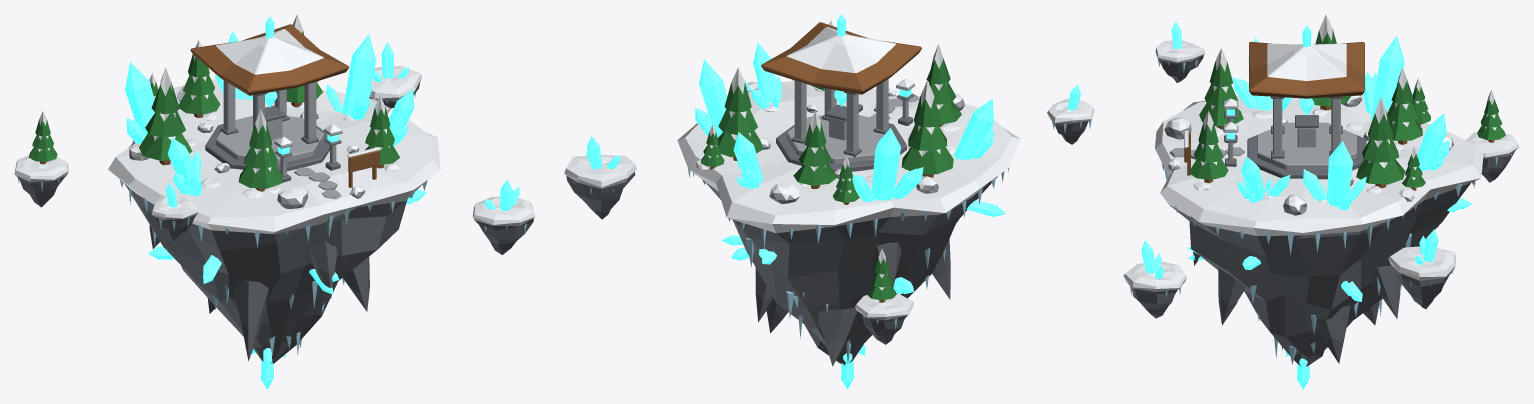
The model's file is frost-crystal-island.glb.
3 views of the same model, side by side, from view 1: azimuth 30°, elevation 25°; view 2: azimuth 150°, elevation 25°; view 3: azimuth 270°, elevation 25° (orthographic). The views are drawn at different scales.
Parts seen in each view (by area): view 1: IslandRock, Shrine, Crystals, Pines, FloatRock_4, FloatRock_2, FloatRock_1, FloatRock_3, Boulders, Icicles, SnowMounds, Sign (+1 smaller); view 2: IslandRock, Shrine, Crystals, Pines, FloatRock_1, FloatRock_2, FloatRock_3, Icicles, Boulders, SnowMounds; view 3: IslandRock, Shrine, Pines, Crystals, FloatRock_1, FloatRock_4, FloatRock_2, FloatRock_3, Boulders, Icicles, SnowMounds.
Boxes of the visible parts, left/top/right/bottom form: IslandRock: left=108, top=79, right=440, bottom=363; Shrine: left=190, top=24, right=349, bottom=182; Crystals: left=125, top=16, right=426, bottom=389; Pines: left=139, top=14, right=400, bottom=191; FloatRock_4: left=472, top=180, right=535, bottom=254; FloatRock_2: left=14, top=111, right=68, bottom=207; FloatRock_1: left=369, top=42, right=421, bottom=108; FloatRock_3: left=151, top=183, right=198, bottom=241; Boulders: left=129, top=86, right=393, bottom=208; Icicles: left=120, top=180, right=427, bottom=355; SnowMounds: left=169, top=102, right=400, bottom=198; Sign: left=347, top=147, right=380, bottom=187; IslandRock: left=677, top=81, right=1020, bottom=366; Shrine: left=761, top=22, right=921, bottom=172; Crystals: left=695, top=14, right=1005, bottom=389; Pines: left=701, top=20, right=961, bottom=204; FloatRock_1: left=564, top=136, right=636, bottom=219; FloatRock_2: left=855, top=249, right=913, bottom=344; FloatRock_3: left=1047, top=84, right=1094, bottom=144; Icicles: left=688, top=168, right=1009, bottom=363; Boulders: left=759, top=87, right=964, bottom=204; SnowMounds: left=696, top=87, right=960, bottom=202; IslandRock: left=1155, top=94, right=1483, bottom=366; Shrine: left=1223, top=42, right=1366, bottom=179; Pines: left=1188, top=14, right=1430, bottom=190; Crystals: left=1187, top=25, right=1472, bottom=389; FloatRock_1: left=1388, top=229, right=1455, bottom=309; FloatRock_4: left=1123, top=240, right=1186, bottom=318; FloatRock_2: left=1466, top=90, right=1519, bottom=182; FloatRock_3: left=1155, top=21, right=1205, bottom=82; Boulders: left=1164, top=95, right=1454, bottom=215; Icicles: left=1162, top=163, right=1475, bottom=364; SnowMounds: left=1194, top=109, right=1417, bottom=202.
Size of the model in its own units: 42.85 by 38.8 by 37.98.
